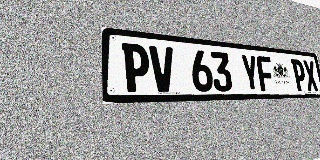3: (210, 51, 233, 92)
6: (190, 49, 214, 92)
F: (256, 56, 275, 91)
P: (122, 43, 151, 92), (291, 59, 308, 91)
V: (149, 45, 176, 92)
X: (302, 60, 319, 91)
Y: (240, 54, 261, 91)
